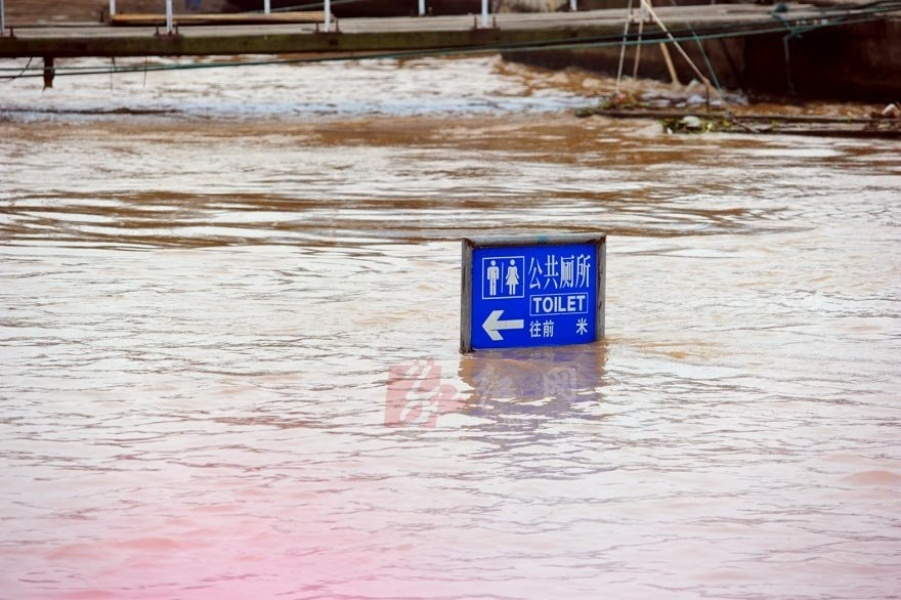text: (417, 360, 432, 431), (433, 360, 448, 431), (449, 360, 464, 431), (465, 360, 480, 431), (481, 360, 496, 431), (497, 360, 512, 431), (513, 360, 528, 431), (529, 360, 544, 431), (545, 360, 560, 431), (561, 360, 576, 431), (403, 360, 416, 431), (577, 360, 587, 431), (529, 253, 544, 293), (545, 253, 560, 293), (561, 253, 576, 293), (577, 253, 592, 293), (545, 293, 560, 317), (561, 293, 576, 317), (532, 293, 544, 317), (577, 293, 589, 317), (529, 320, 544, 339), (577, 319, 589, 336), (545, 320, 555, 339), (573, 319, 576, 336), (527, 253, 528, 293), (593, 253, 594, 293), (527, 320, 528, 339)
